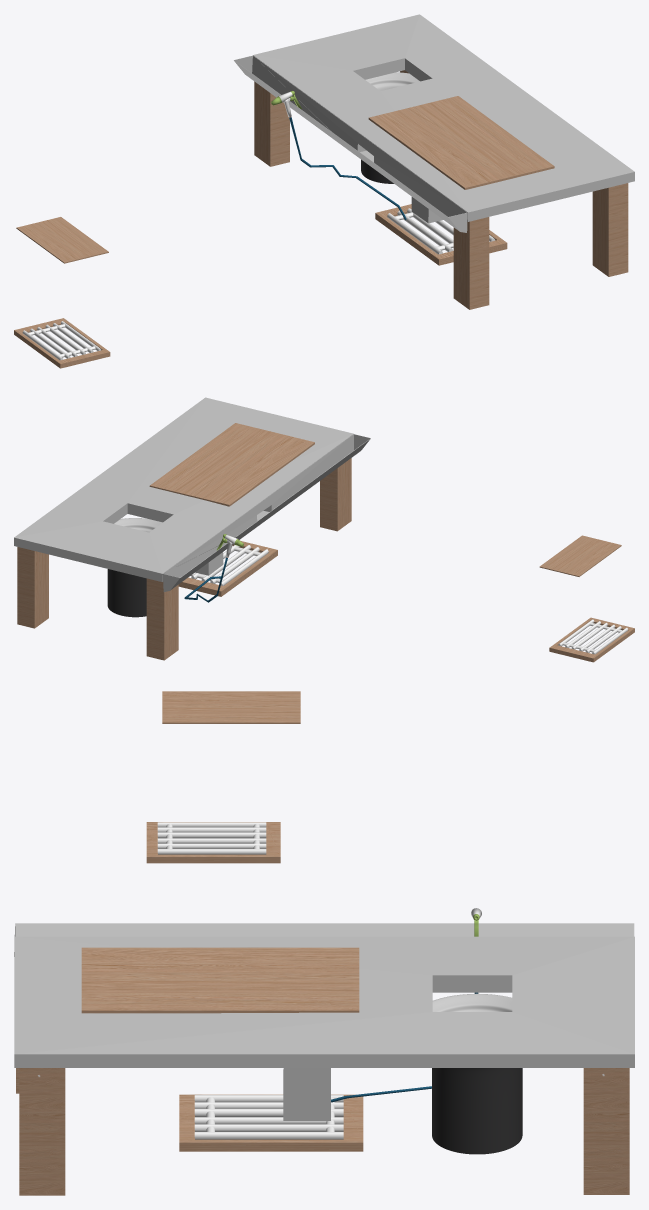
File: Fiks.fbx
3 views of the same model, one above another, from view 1: azimuth 30°, elevation 25°; view 2: azimuth 150°, elevation 25°; view 3: azimuth 270°, elevation 25° (orthographic). The views are drawn at different scales.
Parts seen in each view (by area): view 1: Cube.001, Cube.033, Cube.040, Cylinder.046, Cylinder.044, Cube.034, Circle.004, Vand; view 2: Cube.001, Cube.033, Cube.040, Circle.004, Cylinder.046, Cylinder.044, Cube.034, Vand; view 3: Cube.001, Cube.033, Cube.040, Cylinder.046, Circle.004, Cylinder.044, Cube.034.
Part boxes in pixels (x1,y1,x2,y2): Cube.001: (253, 14, 634, 309); Cube.033: (368, 96, 554, 189); Cube.040: (234, 55, 467, 232); Cylinder.046: (375, 204, 507, 265); Cylinder.044: (14, 318, 110, 368); Cube.034: (16, 217, 108, 263); Circle.004: (361, 72, 419, 183); Vand: (271, 90, 406, 220); Cube.001: (14, 397, 353, 660); Cube.033: (149, 423, 314, 506); Cube.040: (162, 434, 370, 591); Circle.004: (107, 518, 162, 617); Cylinder.046: (178, 541, 277, 596); Cylinder.044: (549, 617, 634, 662); Cube.034: (539, 535, 621, 576); Vand: (184, 534, 243, 602); Cube.001: (14, 936, 634, 1195); Cube.033: (81, 947, 359, 1013); Cube.040: (14, 923, 634, 1120); Cylinder.046: (179, 1094, 363, 1151); Circle.004: (432, 993, 522, 1154); Cylinder.044: (146, 822, 280, 863); Cube.034: (162, 691, 300, 723).
Size of the model in its own units: 2728 by 542 by 1924.
